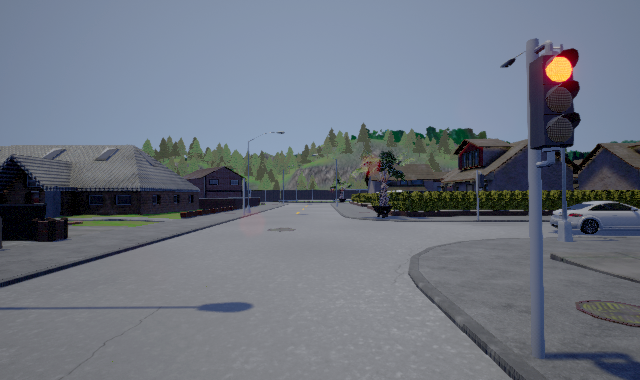traffic_light: (529, 40, 581, 168)
vehicle: (551, 201, 640, 234)
